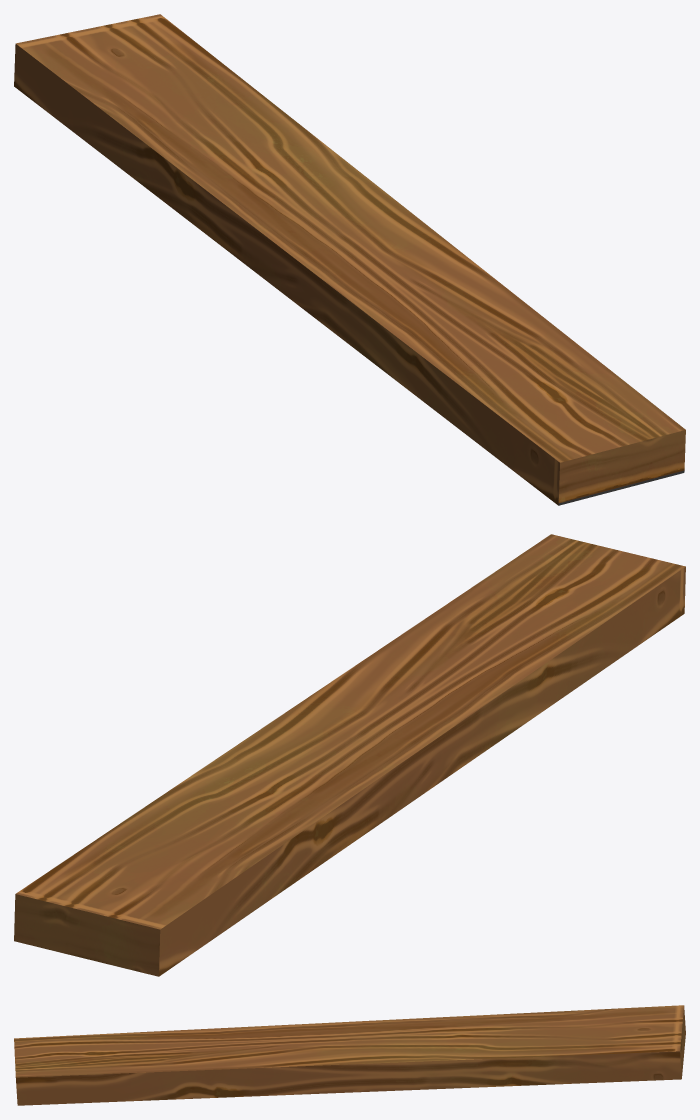
The picture shows the model from 3 angles, top to bottom: view 1: azimuth 30°, elevation 25°; view 2: azimuth 150°, elevation 25°; view 3: azimuth 270°, elevation 25°; orthographic projection. The views are drawn at different scales.
Parts seen in each view (by area): view 1: Cube.871; view 2: Cube.871; view 3: Cube.871.
Boxes of the visible parts, x1,y1,x2,y2 form: Cube.871: [14, 14, 685, 505]; Cube.871: [14, 534, 685, 976]; Cube.871: [14, 1005, 685, 1105].
Size of the model in its own units: 37.77 by 20.75 by 231.
1 material, 1 textured.
